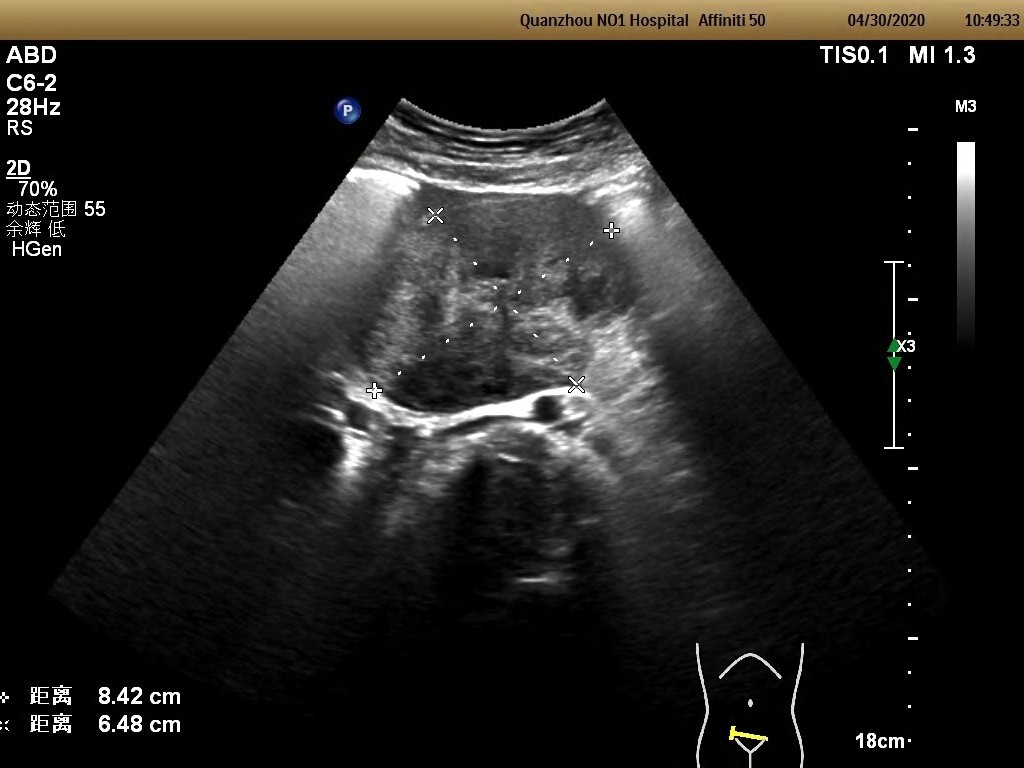肌瘤: (369, 196, 628, 395)
